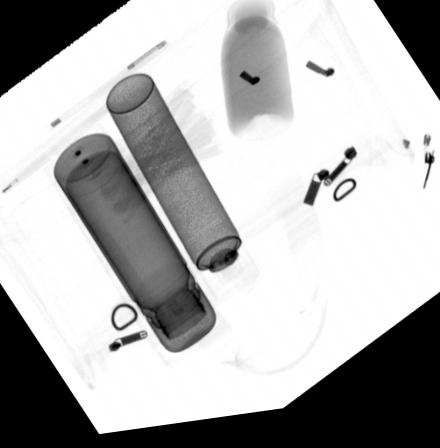Sprayer: (104, 74, 259, 311)
